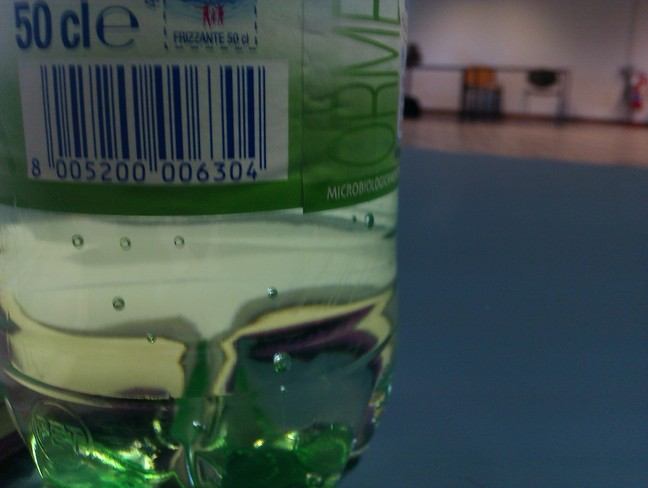barcode: (17, 62, 277, 186)
